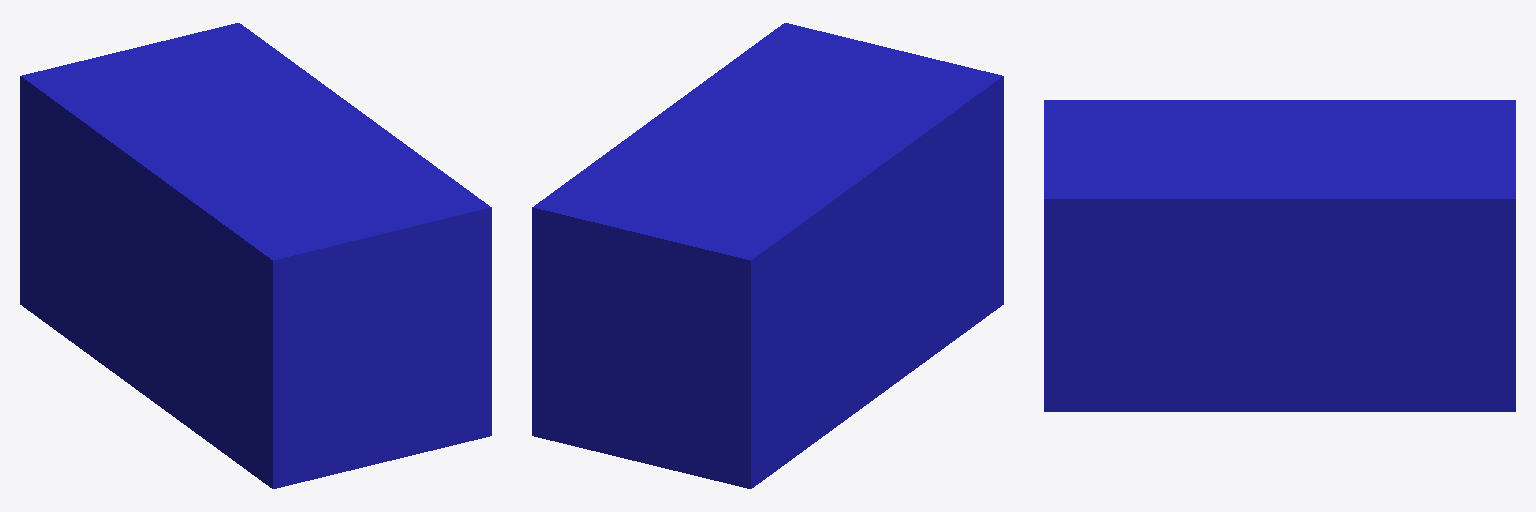
URDF robot description (block_2):
<?xml version="1.0"?>
<robot name="block_2">
  <link name="block_2_base_link">
    <contact>
      <lateral_friction value="0.5"/>
      <spinning_friction value=".001"/>
    </contact>
    <inertial>
      <origin rpy="0 0 0" xyz="0 0 0"/>
      <mass value="0.5"/>
      <inertia ixx="0.0000001" ixy="0" ixz="0" iyy="0.0000001" iyz="0" izz="0.0000001"/>
    </inertial>
    <visual>
      <origin rpy="0 0 0" xyz="0.0 0.0 0.0"/>
      <geometry>
        <box size="0.05 0.1 0.05"/>
      </geometry>
      <material name="blockmat">
        <color rgba="0.2 0.2 0.8 1"/>
      </material>
    </visual>
    <collision>
      <origin rpy="0 0 0" xyz="0.0 0.0 0.0"/>
      <geometry>
        <box size="0.05 0.1 0.05"/>
      </geometry>
    </collision>
  </link>
</robot>

--- What the picture shows (computed from the rendered views, not written in the file) ---
Views: 3 orthographic renders of the robot side by side, from view 1: azimuth 30°, elevation 25°; view 2: azimuth 150°, elevation 25°; view 3: azimuth 270°, elevation 25°.
Model block_2 with 1 links and 0 joints (none), rooted at block_2_base_link, posed every joint at zero.
Visible links, largest first — view 1: block_2_base_link; view 2: block_2_base_link; view 3: block_2_base_link.
Boxes of the visible links, box(x1,y1,x2,y2) form: block_2_base_link: box(20, 23, 491, 488); block_2_base_link: box(532, 23, 1003, 488); block_2_base_link: box(1044, 100, 1515, 411).
Size in the robot's own frame: 0.05 by 0.1 by 0.05 metres.
Geometry: primitives only (box / cylinder / sphere), no mesh files.